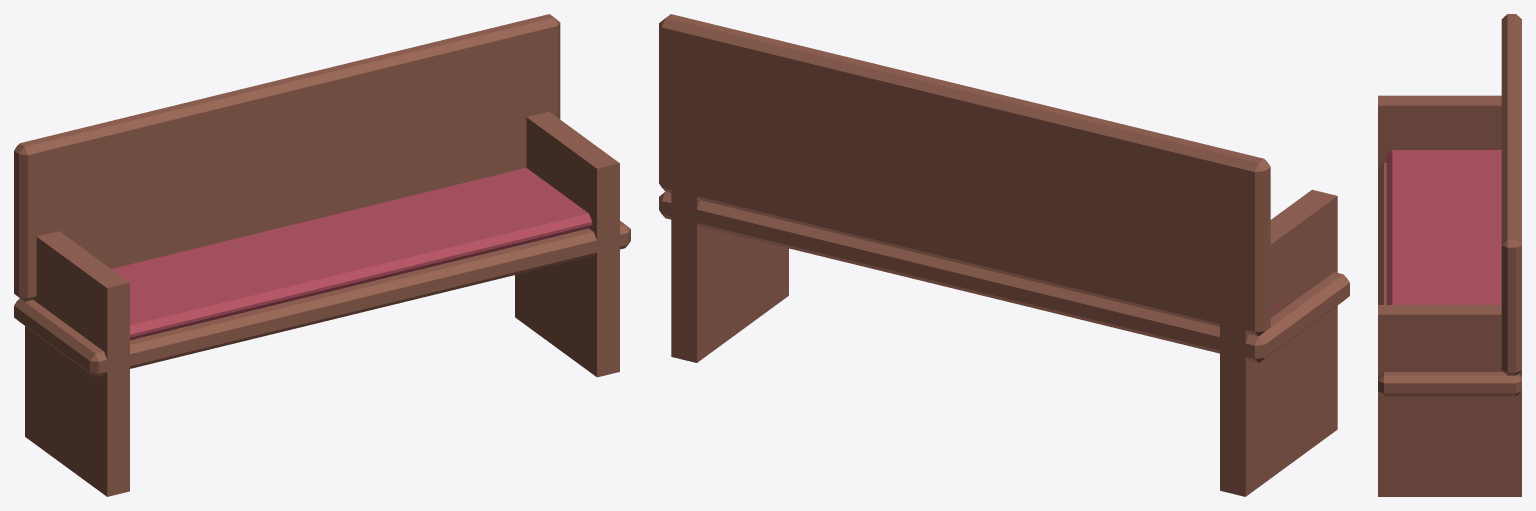
Rendered from hall-bench.glb.
3 views of the same model, side by side, from view 1: azimuth 30°, elevation 25°; view 2: azimuth 150°, elevation 25°; view 3: azimuth 270°, elevation 25° (orthographic). The views are drawn at different scales.
Visible parts, largest first — view 1: hall-bench; view 2: hall-bench; view 3: hall-bench.
Boxes of the visible parts, x1,y1,x2,y2 form: hall-bench: (14, 14, 630, 496); hall-bench: (659, 14, 1349, 496); hall-bench: (1378, 14, 1521, 496).
Size of the model in its own units: 1.9 by 1 by 0.5.
